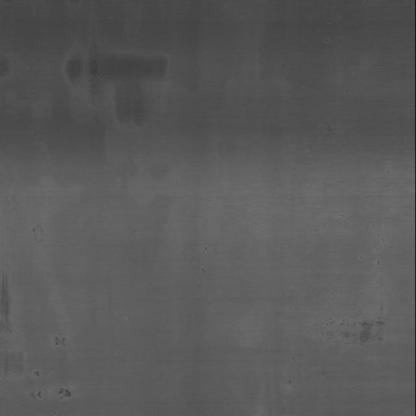water_spot: (337, 312, 404, 346)
